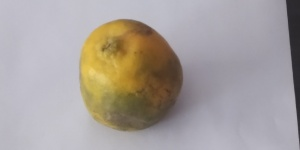BAD: (79, 18, 186, 133)
